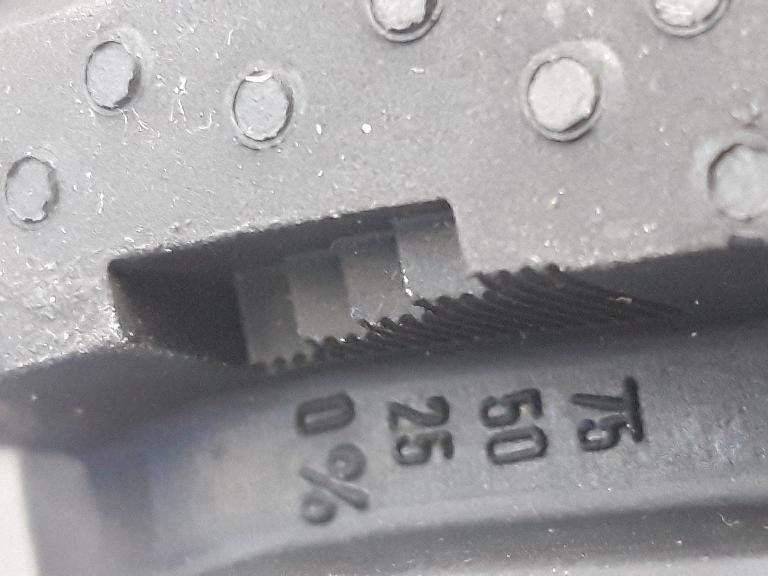temoin:100: (103, 196, 594, 384)
